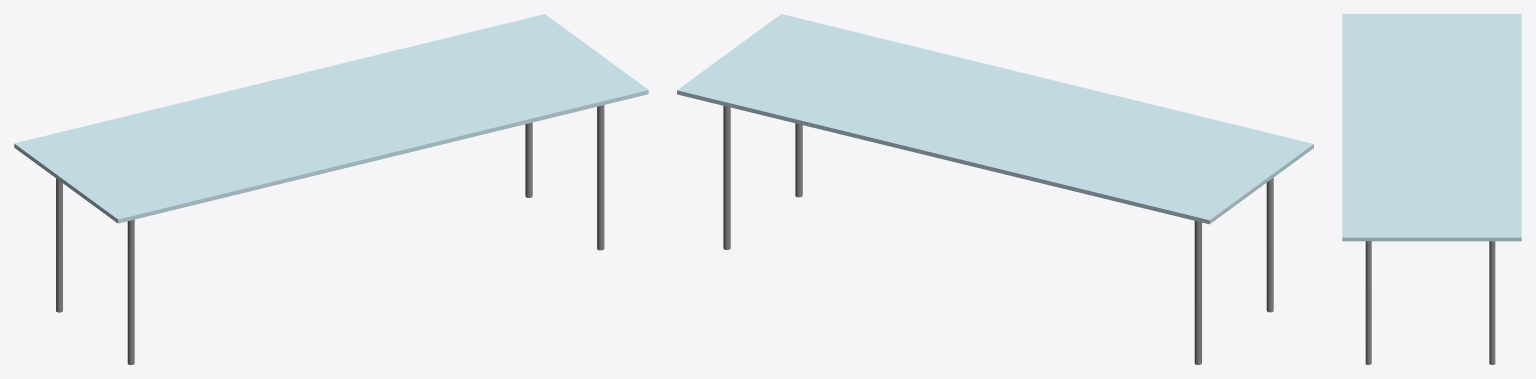
3 renders of one model, left to right at view 1: azimuth 30°, elevation 25°; view 2: azimuth 150°, elevation 25°; view 3: azimuth 270°, elevation 25°, orthographic. The views are drawn at different scales.
Visible parts, largest first — view 1: table6; view 2: table6; view 3: table6.
Boxes of the visible parts, x1,y1,x2,y2 form: table6: (14,14,648,364); table6: (677,14,1313,364); table6: (1342,14,1521,364).
Bounding box in the file's own units: 252 × 73.64 × 85.56.
